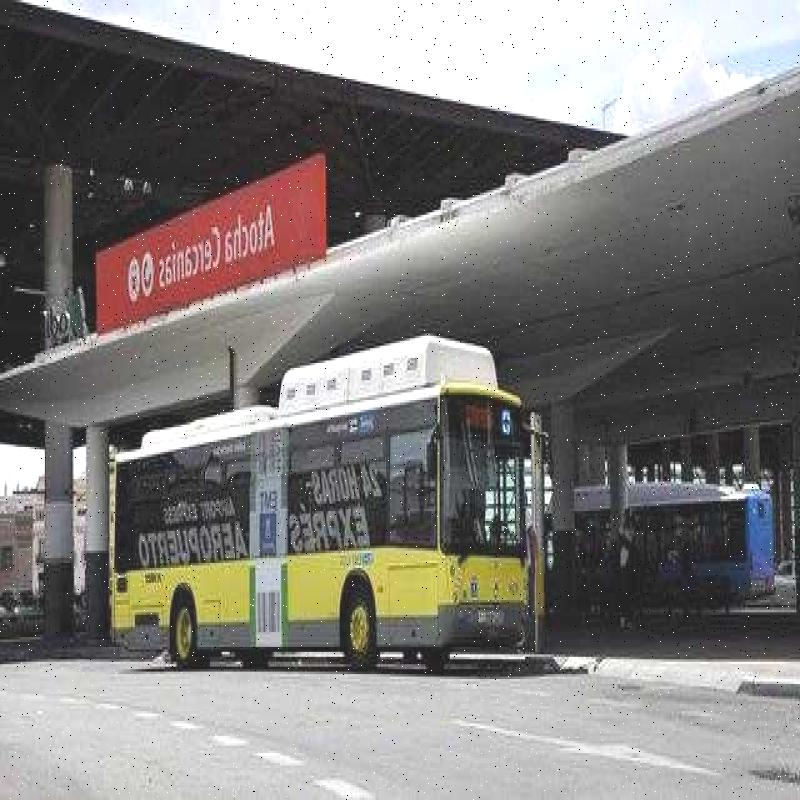bus: (100, 323, 539, 725)
